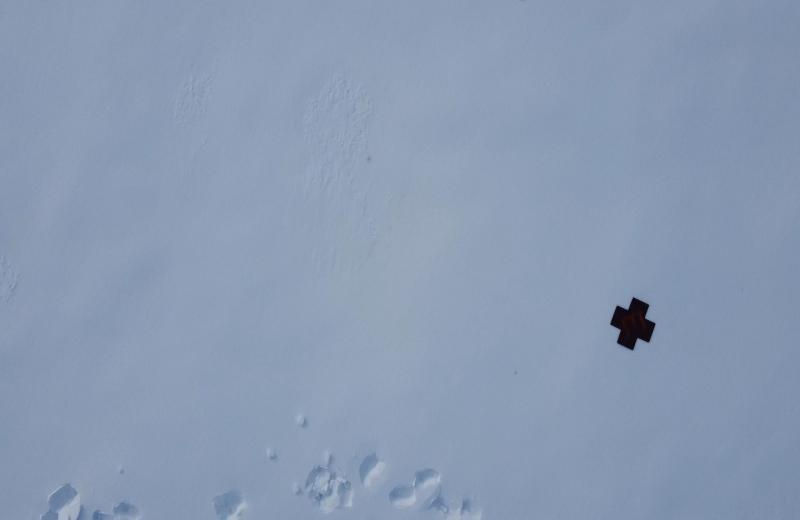Cross: (611, 297, 656, 352)
